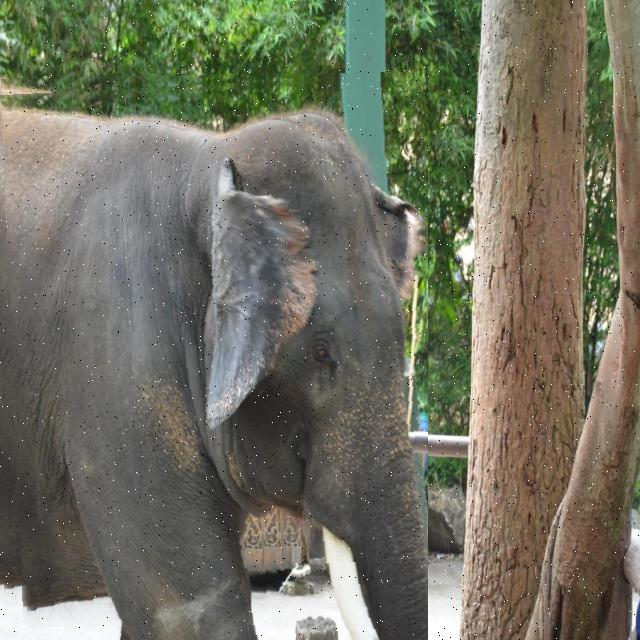elephant: (0, 73, 428, 640)
